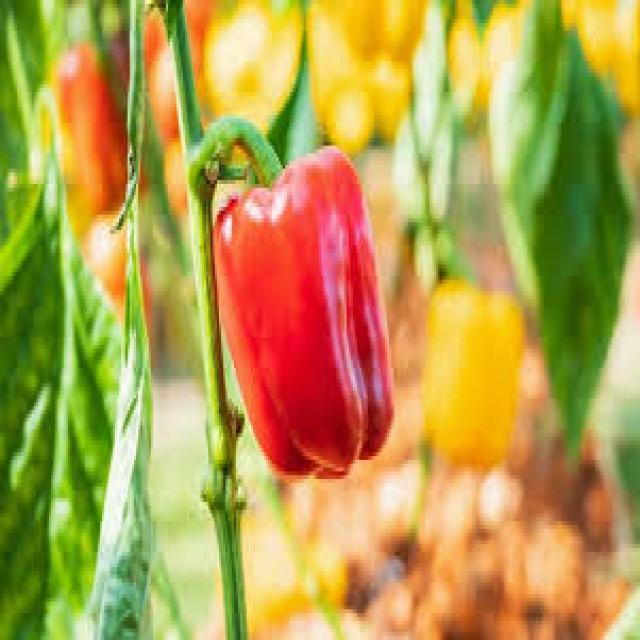Pepper: (188, 134, 399, 482)
